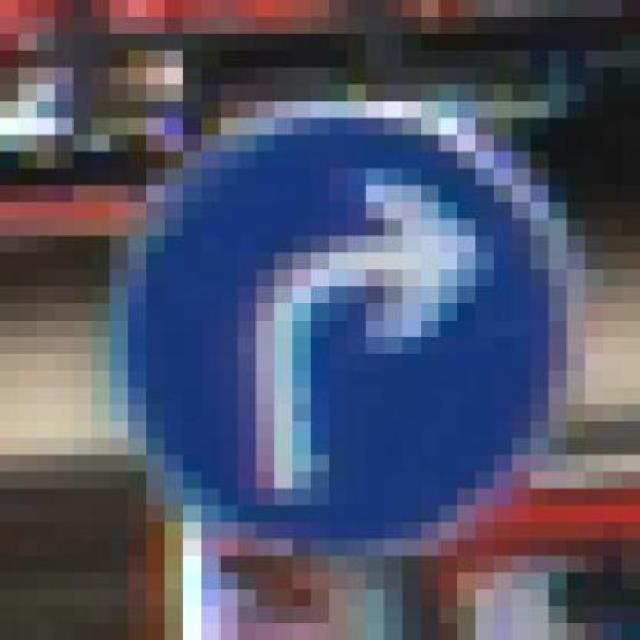Turn right ahead: (110, 101, 604, 556)
